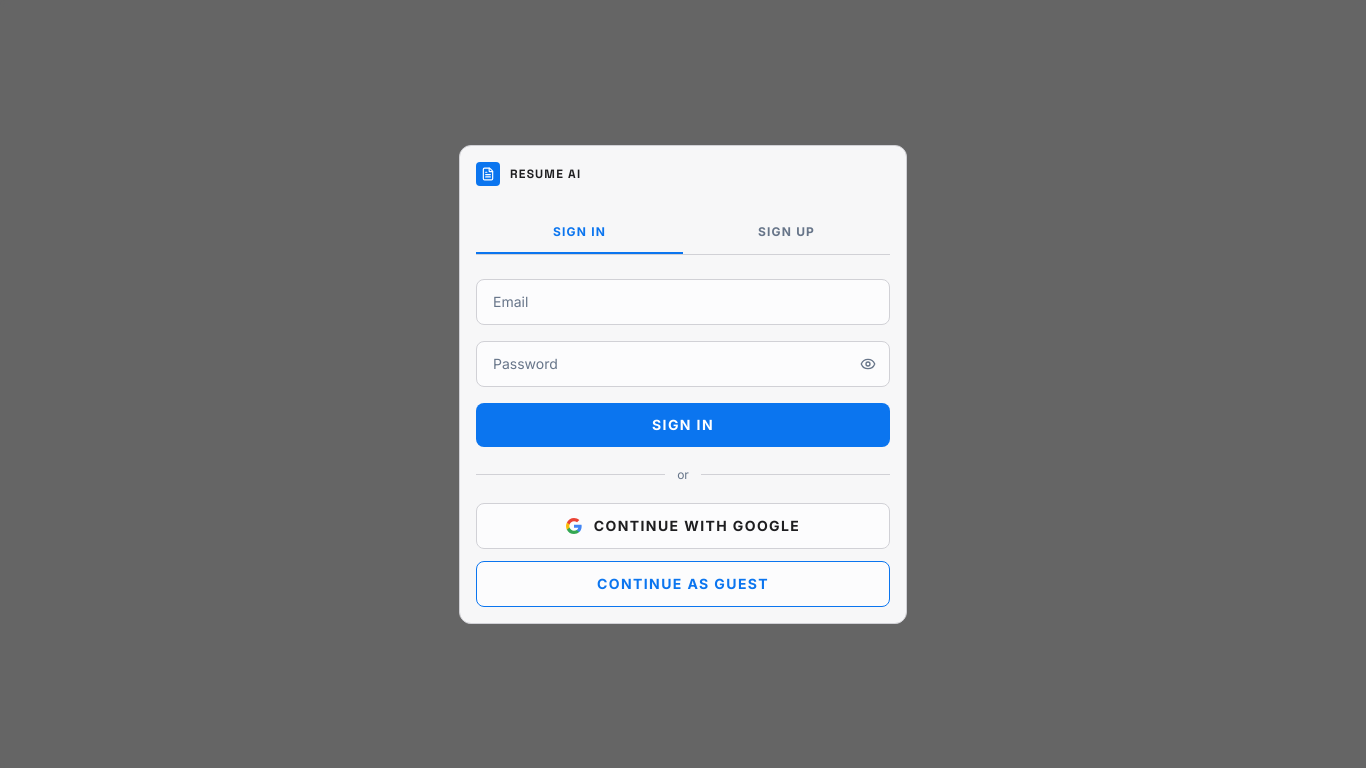
it: AuthModal — password visibility toggle › reveals the password and flips the label when toggled
The width and height of the screenshot is (1366, 768).
Click the button named "Show password" at [868, 364], box [846,342,890,386]
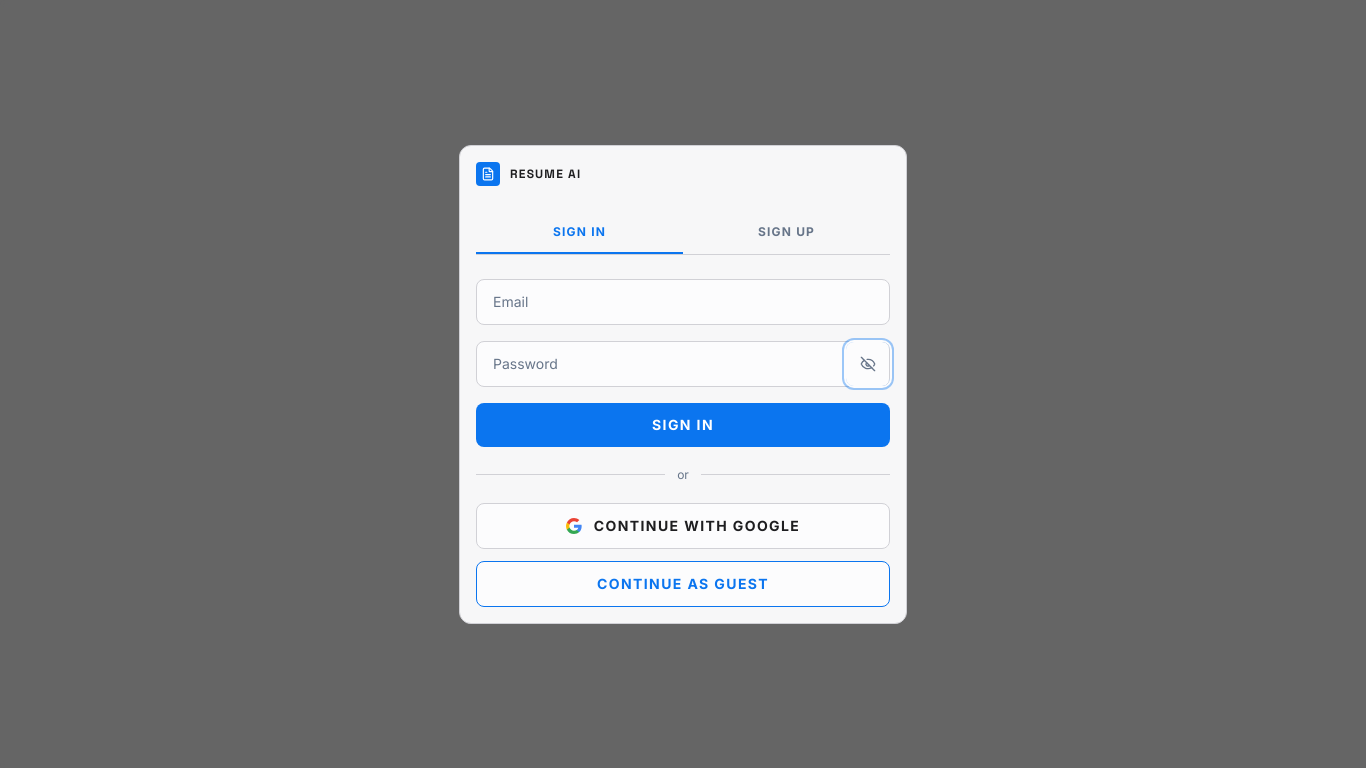
Result: the button named "Hide password" is shown at [846,342,890,386]
